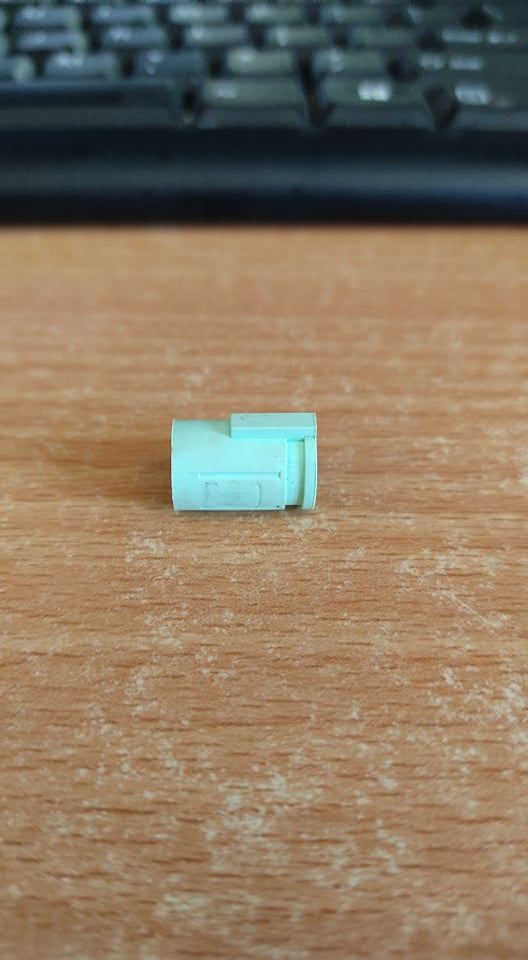green_bucking: (152, 404, 333, 522)
